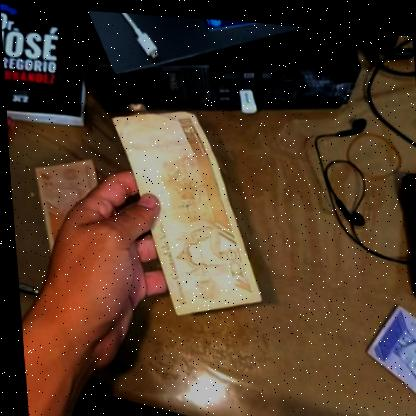five-back-vef: (108, 100, 259, 319)
ten-front-vef: (358, 292, 416, 416)
twenty-back-vef: (107, 101, 258, 320)
